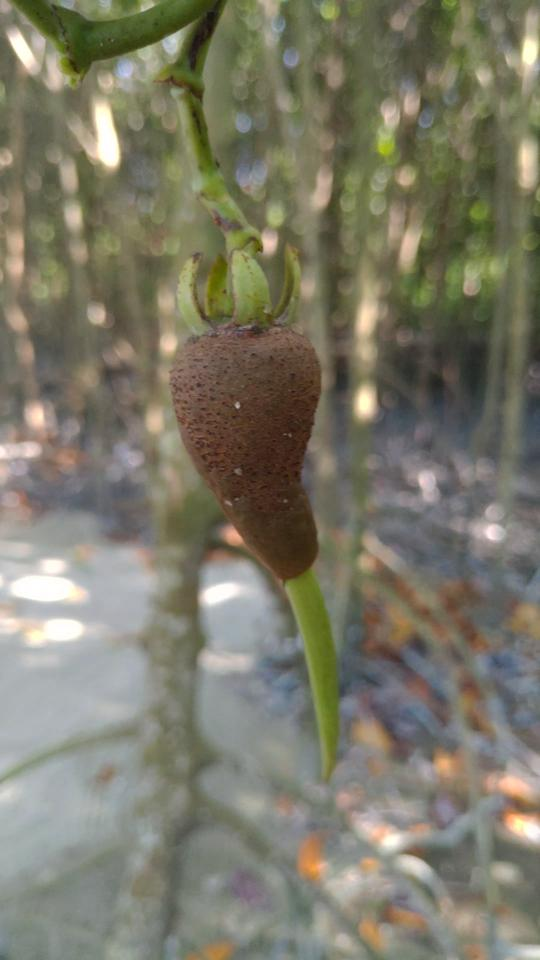mentah: (154, 229, 365, 801)
